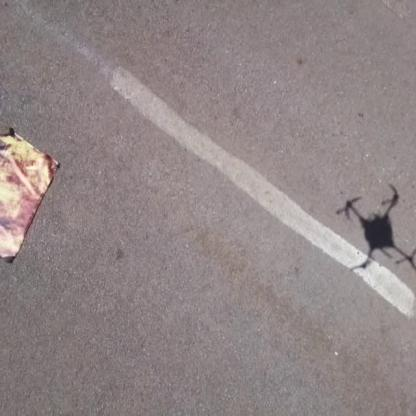fire-poster: (0, 125, 60, 264)
